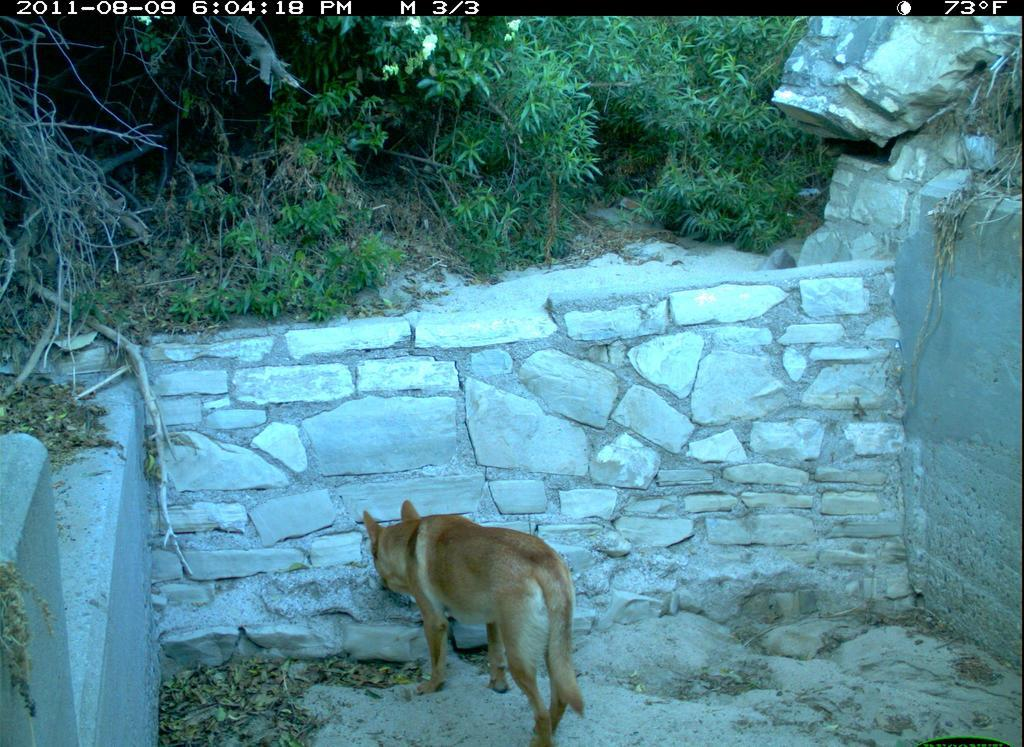dog: (356, 495, 606, 747)
